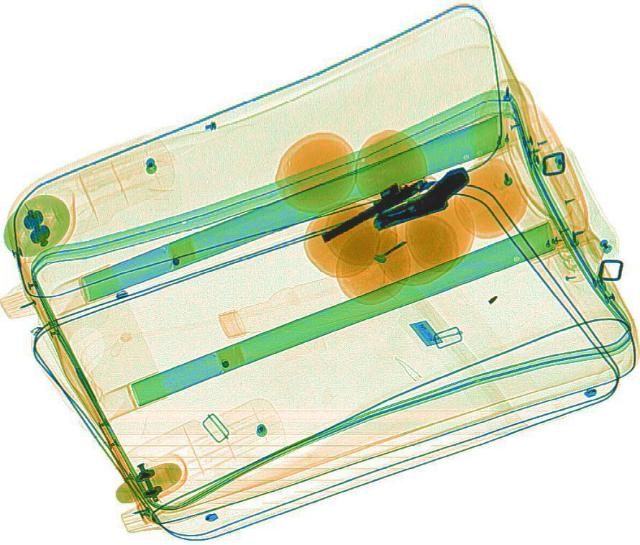Gun: (310, 166, 438, 246), (358, 163, 480, 230)
